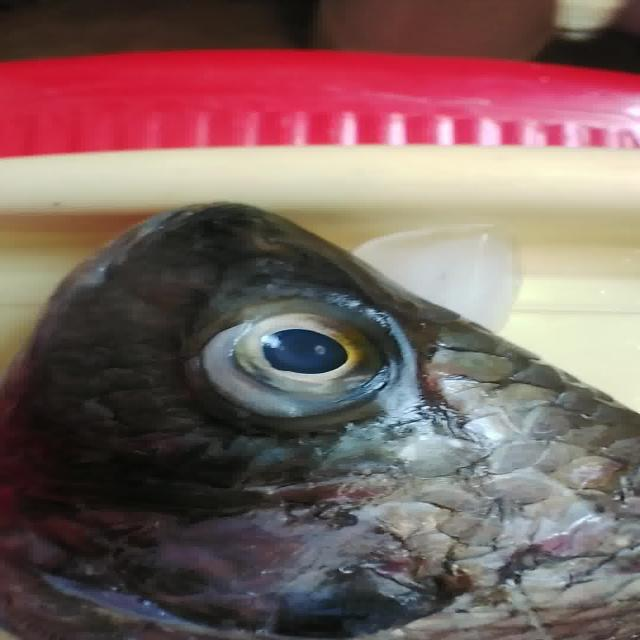Fresh: (166, 294, 431, 428)
